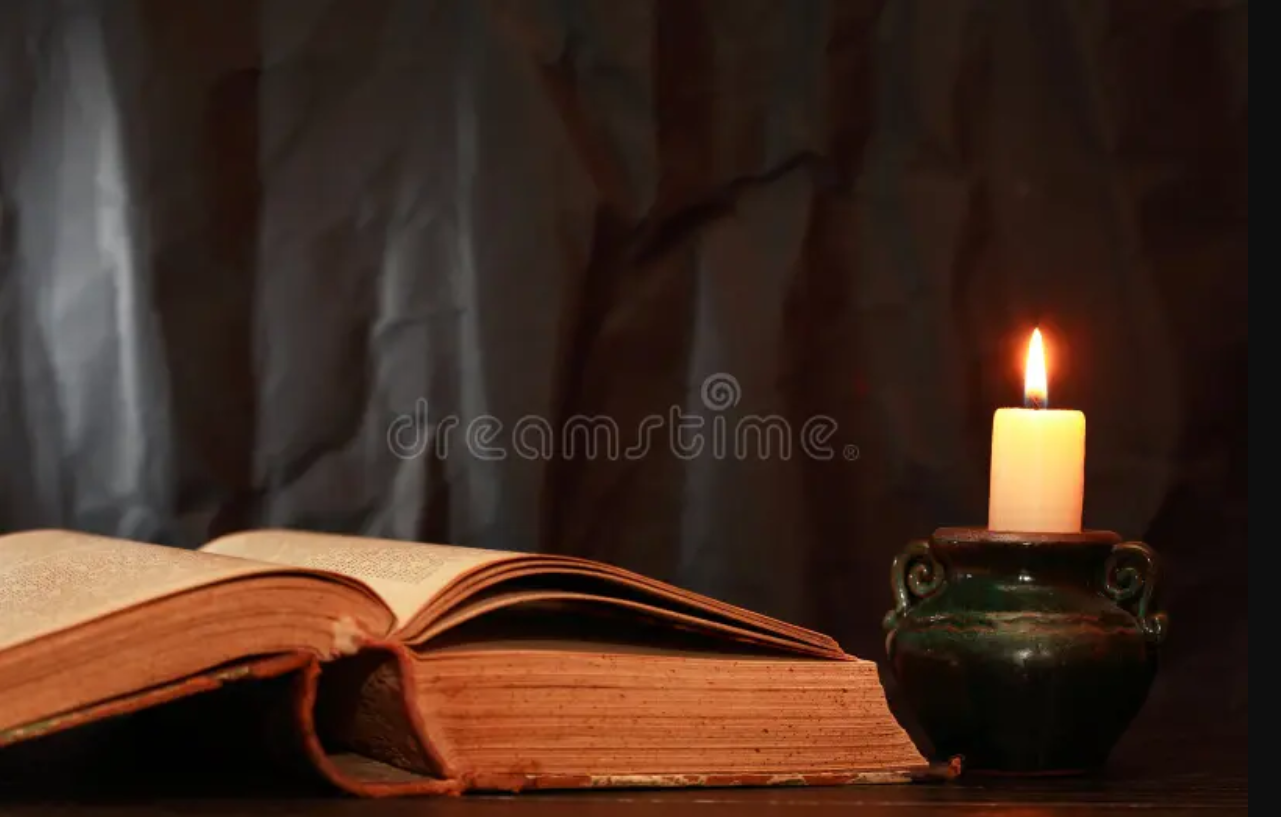book: (5, 508, 959, 785)
